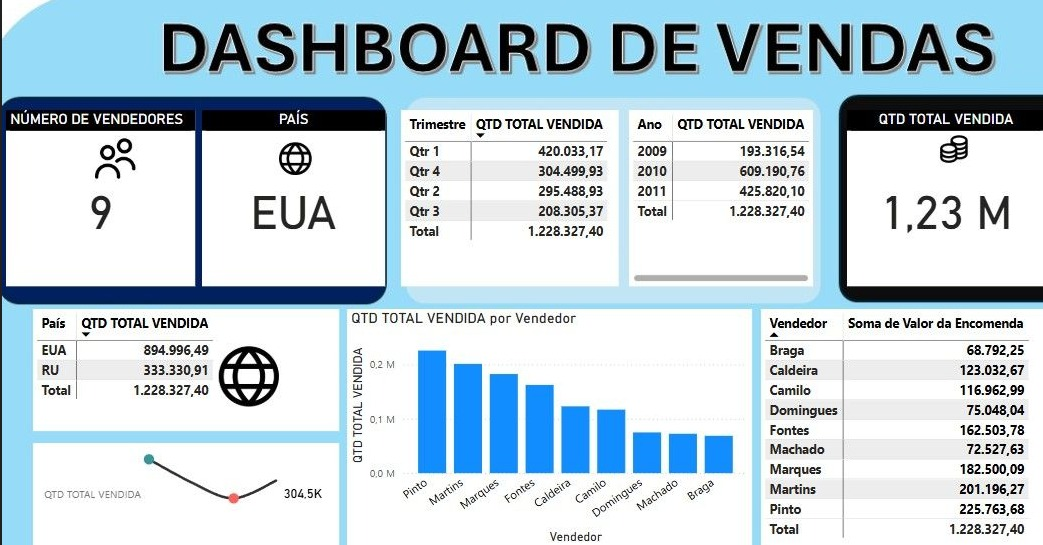

The page's visual inventory and layout, read from the dashboard file:
{"tool":"powerbi","page":{"name":"Página 1","canvas":[1280,720],"ordinal":0},"visuals":[{"type":"card","title":"NÚMERO DE VENDEDORES","fields":{"Values":["Lista de Dados.NÚMERO DE VENDEDORES"]},"box":[72.1,202.3,219.7,204.6],"z":0},{"type":"card","title":"QTD TOTAL VENDIDA","fields":{"Values":["Lista de Dados.QTD TOTAL VENDIDA"]},"box":[1049.8,202.3,230.2,204.6],"z":1000},{"type":"image","box":[642.9,351.1,43,39.5],"z":2000},{"type":"pivotTable","fields":{"Rows":["Lista de Dados.Vendedor"],"Values":["Lista de Dados.Valor da Encomenda"]},"box":[949.8,433.6,330.2,277.9],"z":3000},{"type":"image","box":[882.4,339.5,39.5,51.2],"z":4000},{"type":"card","title":"PAÍS","fields":{"Values":["Lista de Dados.País"]},"box":[299.9,202.3,212.8,204.6],"z":5000},{"type":"pivotTable","title":"VENDAS POR PAÍS","fields":{"Rows":["Lista de Dados.País"],"Values":["Tabela.QTD TOTAL VENDIDA"]},"box":[103.5,433.6,355.7,141.8],"z":6000},{"type":"image","box":[310.4,472,88.4,80.2],"z":7000},{"type":"pivotTable","fields":{"Values":["Tabela.QTD TOTAL VENDIDA"],"Rows":["Lista de Dados.Data da Encomenda.Variação.Hierarquia de Datas.Trimestre"]},"box":[531.3,202.3,253.4,204.6],"z":8000},{"type":"pivotTable","fields":{"Values":["Tabela.QTD TOTAL VENDIDA"],"Rows":["Lista de Dados.Data da Encomenda.Variação.Hierarquia de Datas.Ano"]},"box":[796.4,202.3,213.9,204.6],"z":9000},{"type":"image","box":[168.6,230.2,60.5,57],"z":10000},{"type":"image","box":[382.5,234.8,51.2,47.7],"z":11000},{"type":"image","box":[1152.1,226.4,43,41.9],"z":12000},{"type":"columnChart","fields":{"Y":["Tabela.QTD TOTAL VENDIDA"],"Category":["Lista de Dados.Vendedor"]},"box":[468.5,433.6,470.8,277.9],"z":13000},{"type":"PBI_CV_25997FEB_F466_44FA_B562_AC4063283C4C","fields":{"measure":["Tabela.QTD TOTAL VENDIDA"],"axis":["Lista de Dados.Data da Encomenda.Variação.Hierarquia de Datas.Trimestre"]},"box":[103.5,589.4,355.7,122.1],"z":14000}]}

Visuals, with their boxes on the page's 1280x720 design canvas (x1, y1, x2, y2). These are canvas units, not pixel positions in the 1043x545 screenshot, which may show the page scaled, cropped or inside an application window:
"NÚMERO DE VENDEDORES" card: 72/202/292/407
"QTD TOTAL VENDIDA" card: 1050/202/1280/407
image: 643/351/686/391
pivotTable - Lista de Dados.Vendedor x Lista de Dados.Valor da Encomenda: 950/434/1280/712
image: 882/340/922/391
"PAÍS" card: 300/202/513/407
"VENDAS POR PAÍS" pivotTable: 104/434/459/575
image: 310/472/399/552
pivotTable - Tabela.QTD TOTAL VENDIDA x Lista de Dados.Data da Encomenda.Variação.Hierarquia de Datas.Trimestre: 531/202/785/407
pivotTable - Tabela.QTD TOTAL VENDIDA x Lista de Dados.Data da Encomenda.Variação.Hierarquia de Datas.Ano: 796/202/1010/407
image: 169/230/229/287
image: 382/235/434/282
image: 1152/226/1195/268
columnChart - Tabela.QTD TOTAL VENDIDA x Lista de Dados.Vendedor: 468/434/939/712
PBI_CV_25997FEB_F466_44FA_B562_AC4063283C4C - Tabela.QTD TOTAL VENDIDA x Lista de Dados.Data da Encomenda.Variação.Hierarquia de Datas.Trimestre: 104/589/459/712
